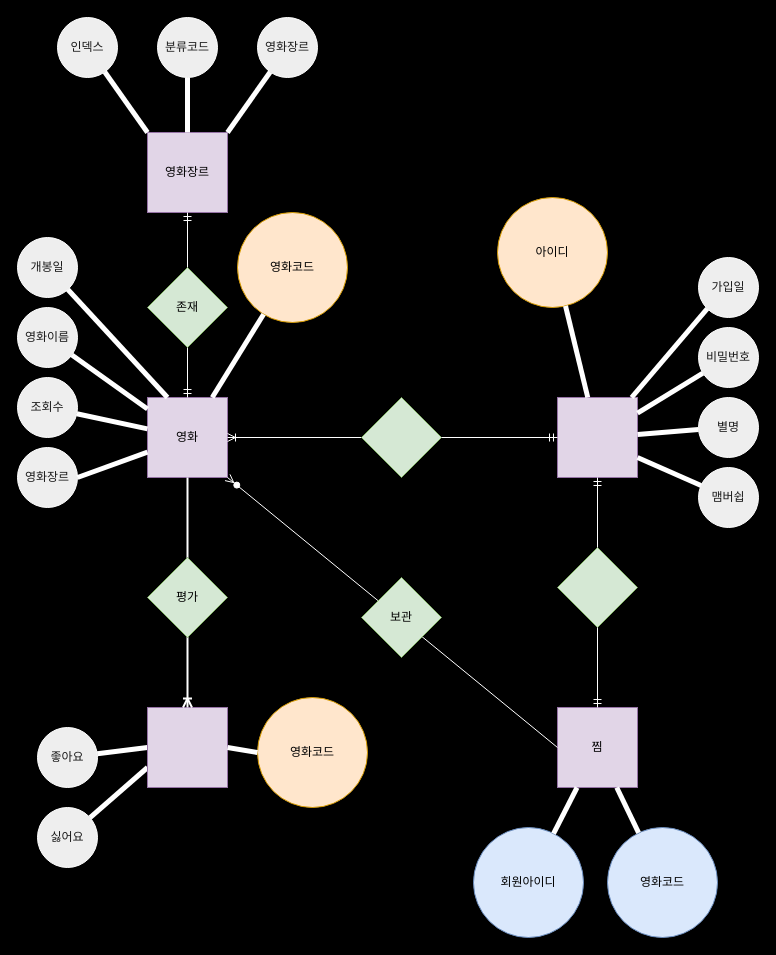
The diagram is 776 pixels wide and 955 high, and some of its shapes have lost their labels. The shapes that lost their labels are listed below. From the top down, each one's centre as x and y in pixels, then its label:
[401,437]: 시청
[597,437]: 회원
[597,587]: 보유
[187,747]: 평점
